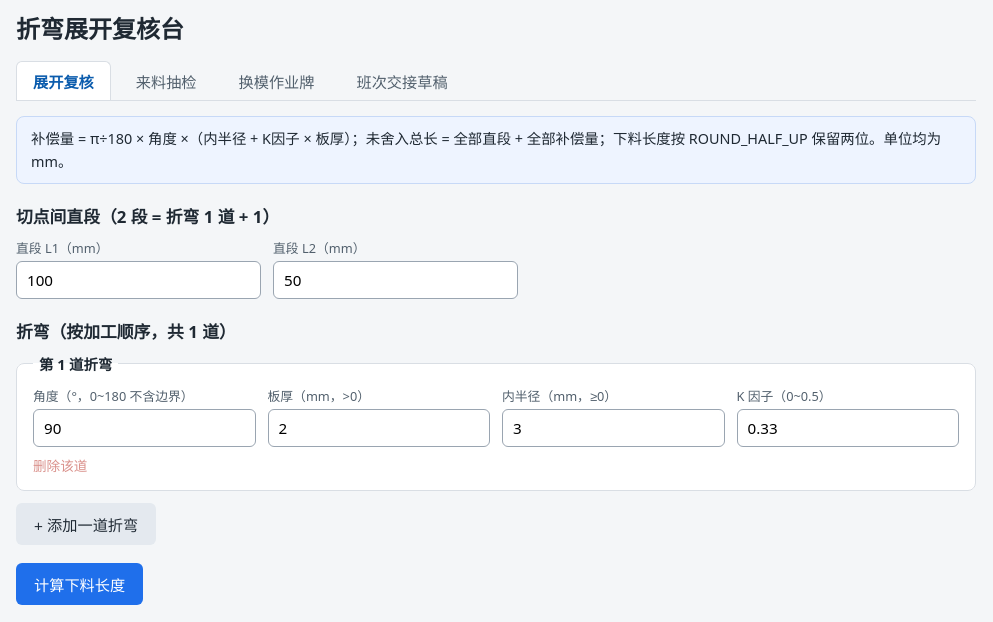
Test: 换模作业牌视图 › 持有人成功归还：提交当前修订号，卡片转为空闲且修订号推进
Click the tab "换模作业牌" at (276, 81), box left=222, top=61, right=331, bottom=100
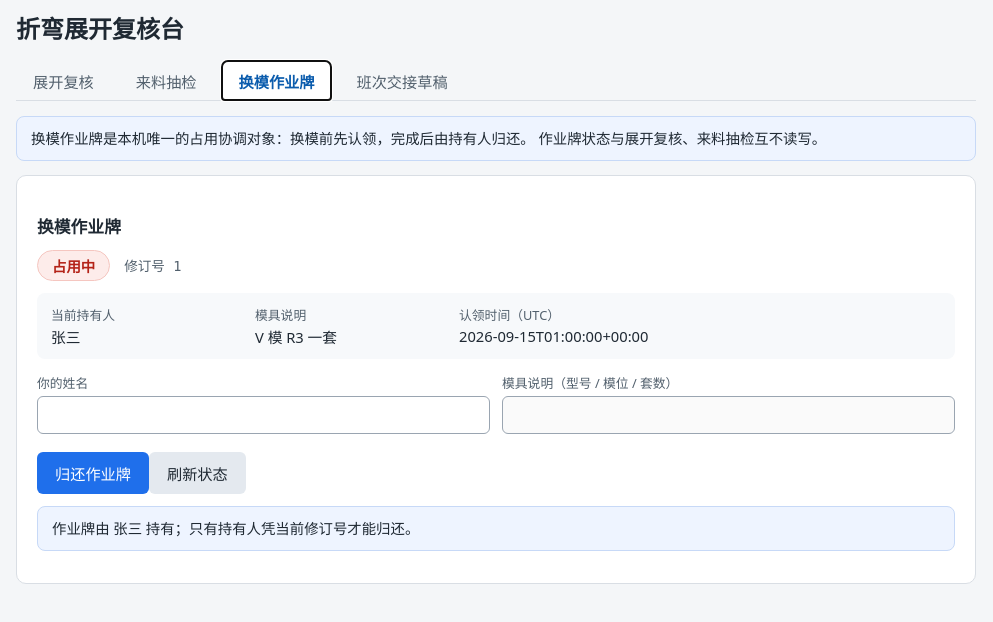
Expected: the text "占用中" is shown, left=37, top=250, right=110, bottom=281
Type "张三" into the field labelled "你的姓名" at (264, 415), box left=37, top=396, right=490, bottom=434
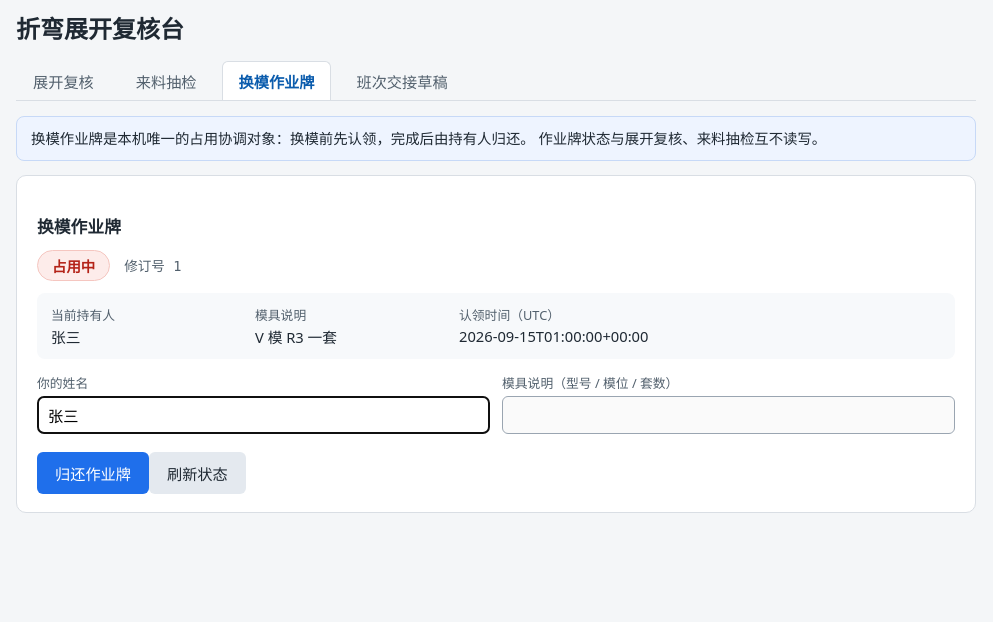
Click the button with test id "board-release" at (93, 473), box left=37, top=452, right=149, bottom=494
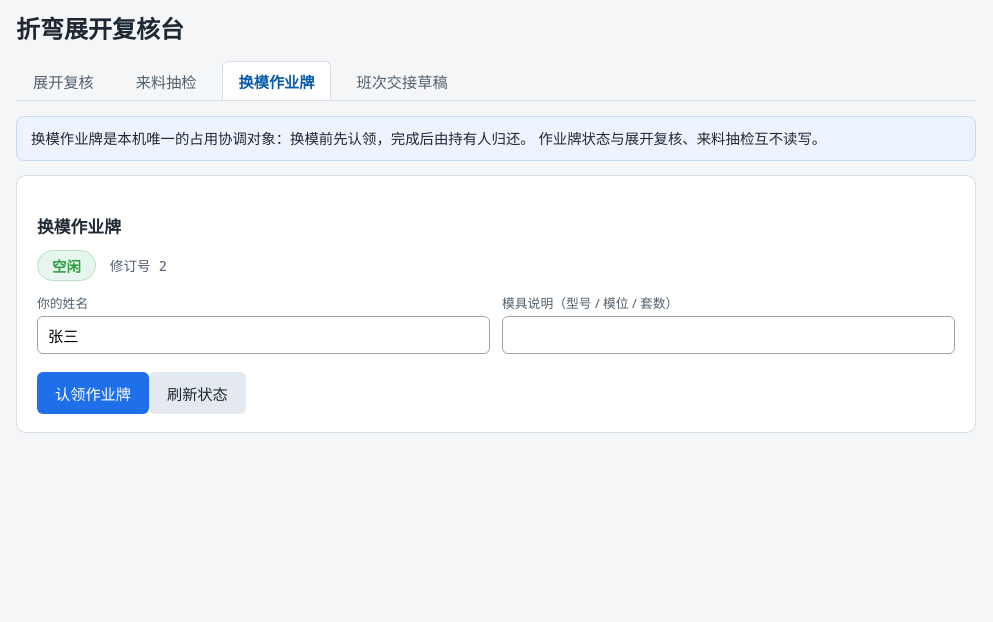
Expected: the text with test id "board-state" reads "空闲", left=52, top=257, right=81, bottom=276
Expected: the text with test id "board-revision" reads "修订号 2", left=110, top=256, right=167, bottom=276
Expected: the element with test id "board-occupied-info" is gone
